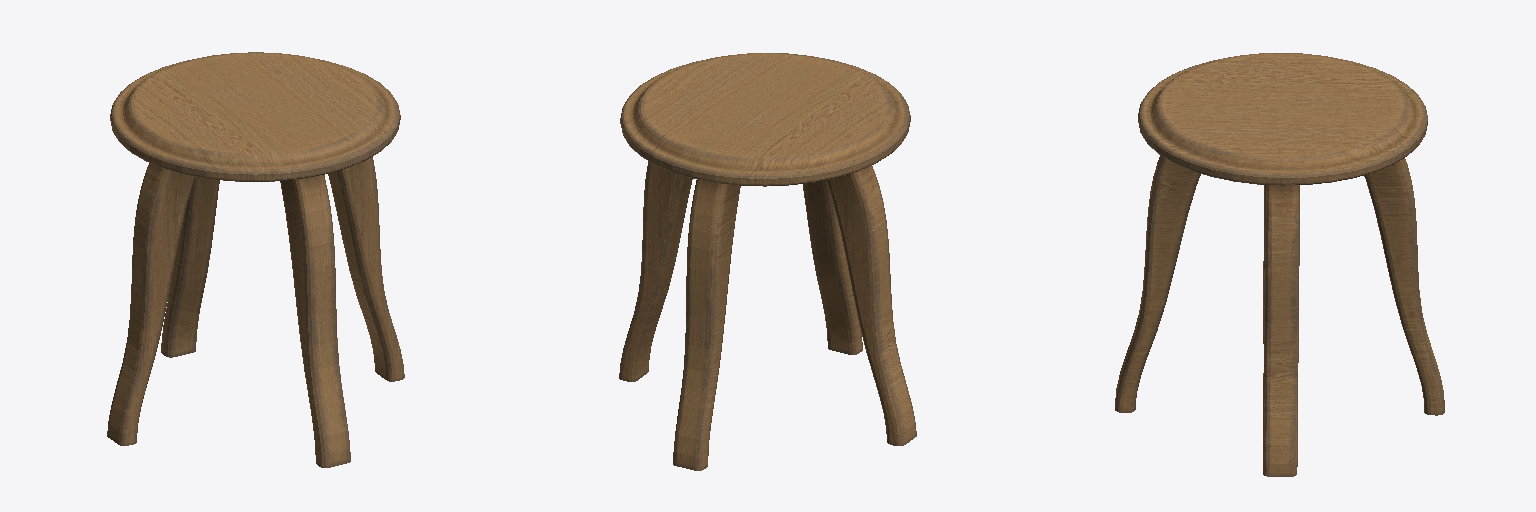
3 views of the same model, side by side, from view 1: azimuth 30°, elevation 25°; view 2: azimuth 150°, elevation 25°; view 3: azimuth 270°, elevation 25° (orthographic).
Parts seen in each view (by area): view 1: ________0; view 2: ________0; view 3: ________0.
Part boxes in pixels (x1,y1,x2,y2): ________0: (107,52,404,467); ________0: (619,53,916,470); ________0: (1115,53,1444,476).
Size of the model in its own units: 12.62 by 12.86 by 12.62.
Materials: 1 (1 with a texture image).